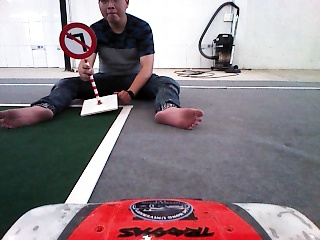ban_left: (58, 23, 98, 59)
